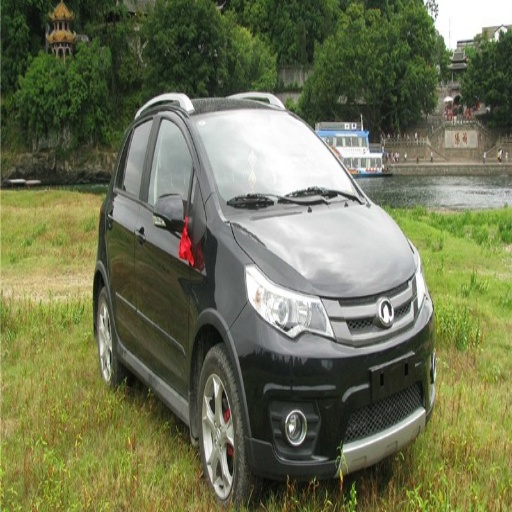front_bumper: (232, 277, 434, 475)
front_right_door: (136, 103, 197, 389)
front_right_light: (246, 265, 331, 337)
